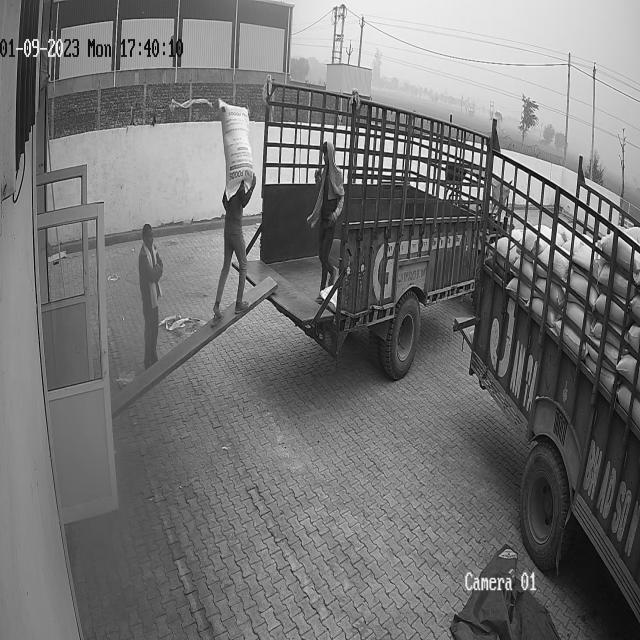sack: (218, 97, 253, 202)
